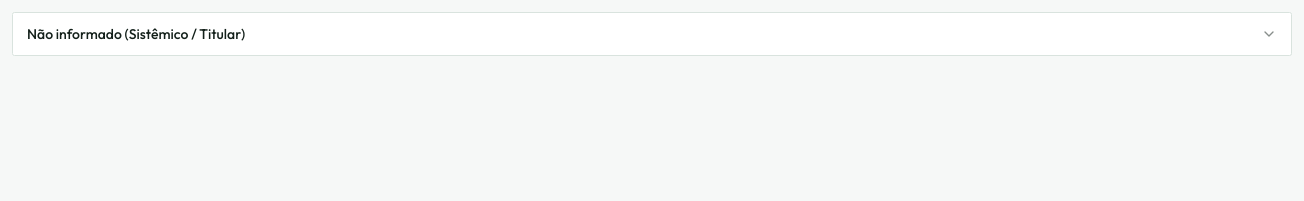
Test: PessoaSelect › estado catálogo não sincronizado se vazio e last_sync_at for null
Step 1. Click the button with test id "pessoa-select-trigger" → (136, 34), box [12,12,1292,56]
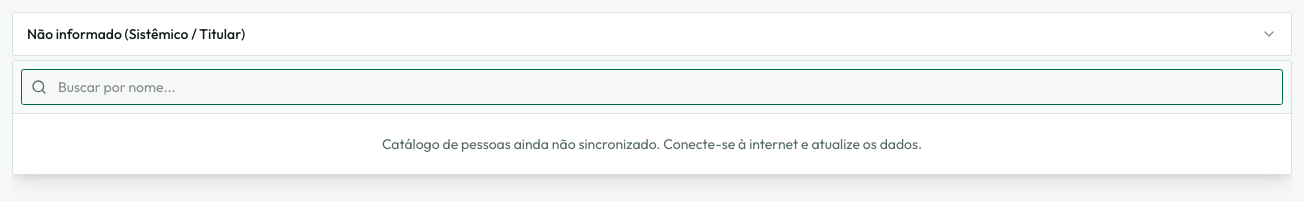
Now the text "ainda não sincronizado" is shown, box [382,135,922,153]
